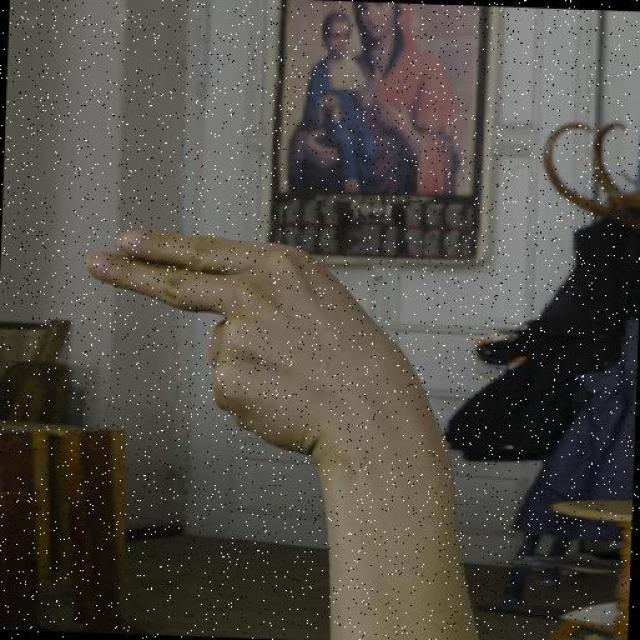H: (79, 224, 425, 460)
